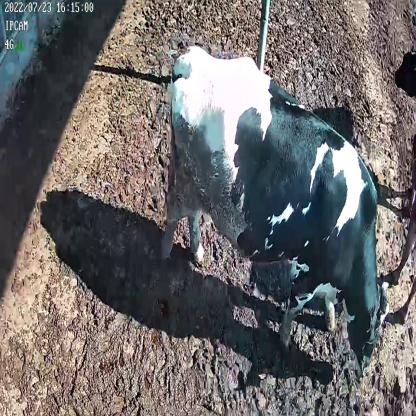cow: (159, 46, 389, 368)
